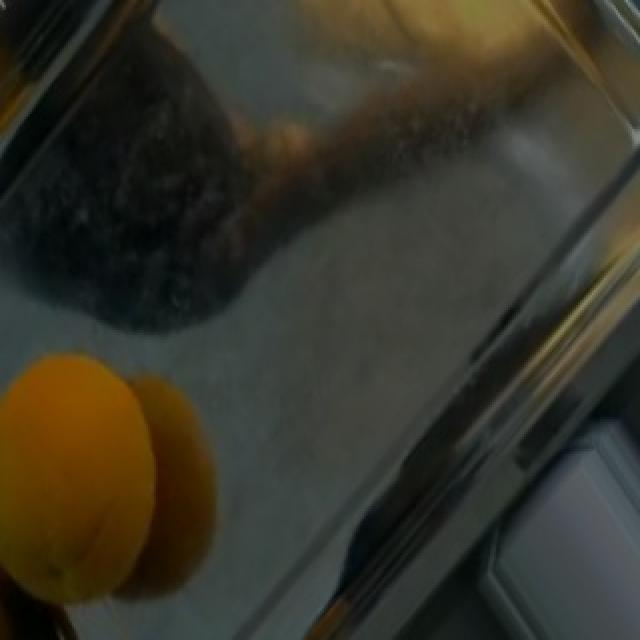Fruit: (0, 330, 182, 640)
